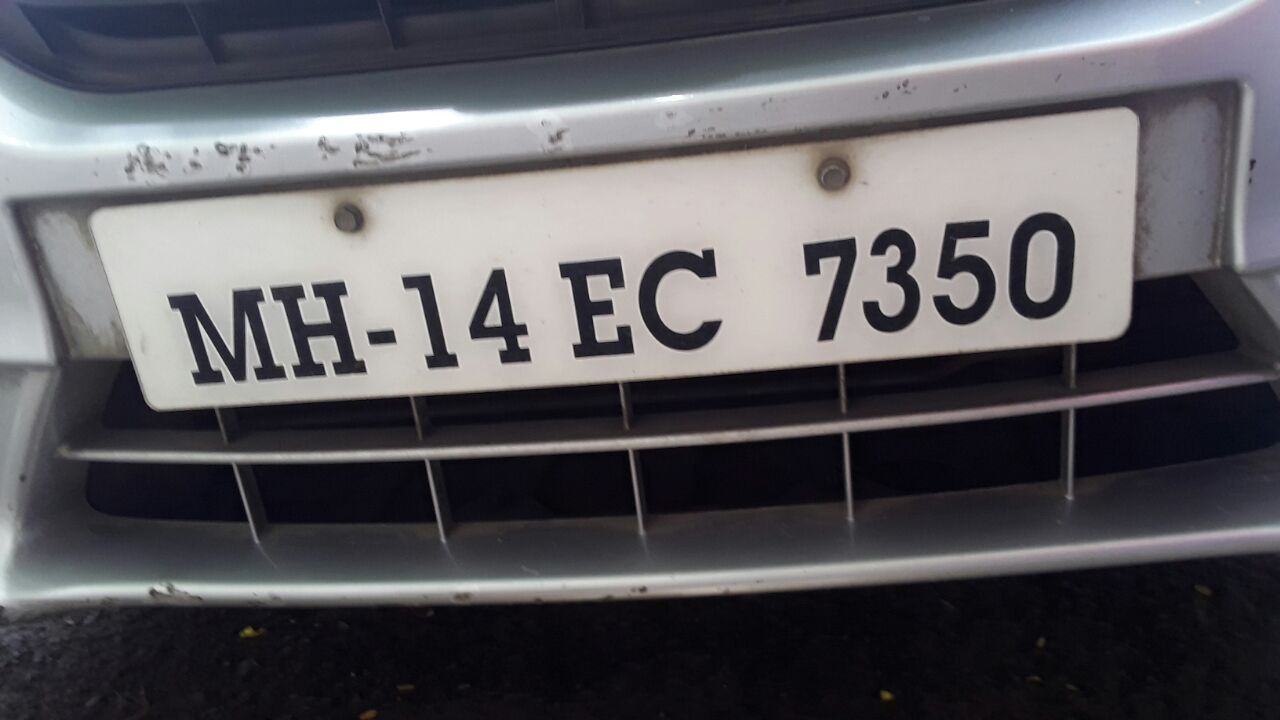licenseplate: (92, 106, 1150, 399)
